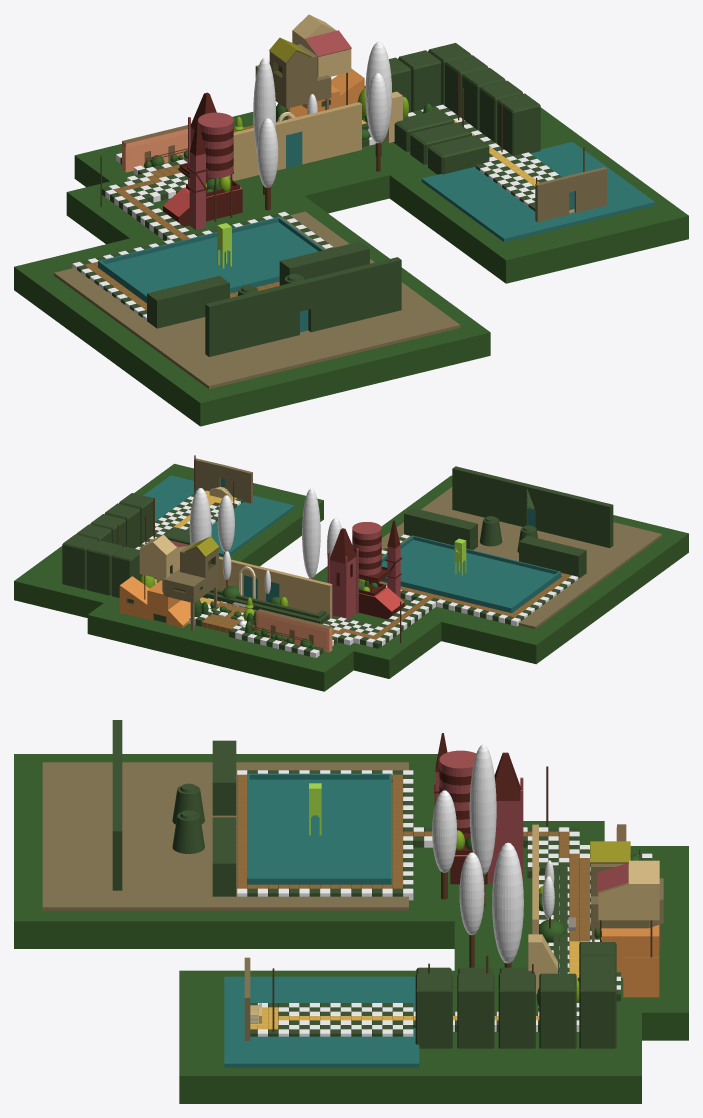
The model's file is environment2.fbx.
3 views of the same model, one above another, from view 1: azimuth 30°, elevation 25°; view 2: azimuth 150°, elevation 25°; view 3: azimuth 270°, elevation 25° (orthographic). The views are drawn at different scales.
Parts seen in each view (by area): view 1: clothes.002; view 2: clothes.002; view 3: clothes.002.
Boxes of the visible parts, x1,y1,x2,y2 form: clothes.002: (14, 14, 688, 426); clothes.002: (14, 455, 688, 691); clothes.002: (14, 720, 688, 1103).
Size of the model in its own units: 13002 by 14690 by 4056.
